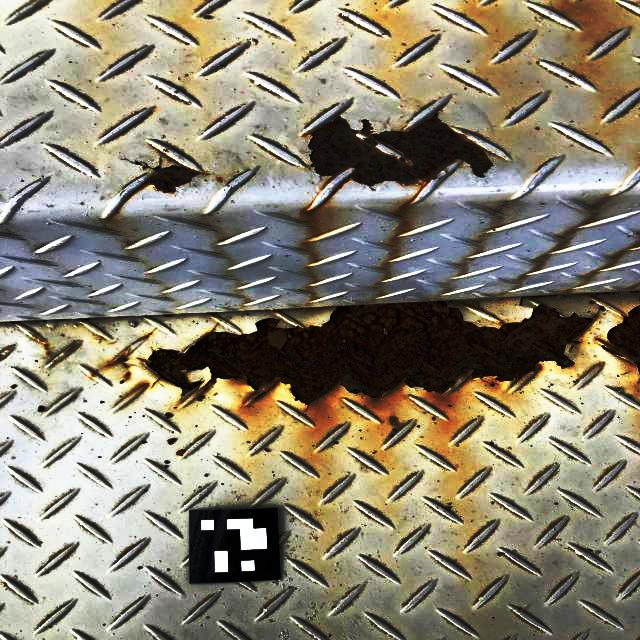Corrosion: (146, 302, 594, 403), (309, 114, 494, 187), (601, 305, 640, 375), (137, 166, 201, 193)
